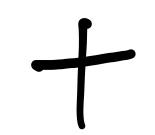plus: (30, 17, 134, 130)
